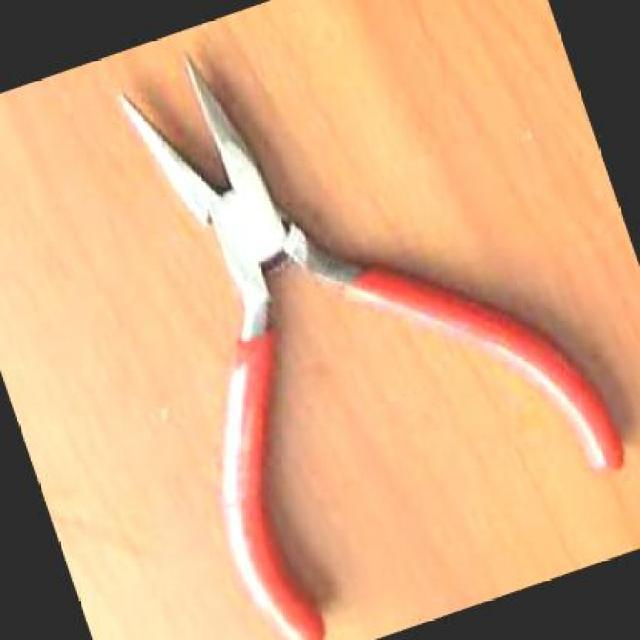pliers: (44, 0, 638, 638)
